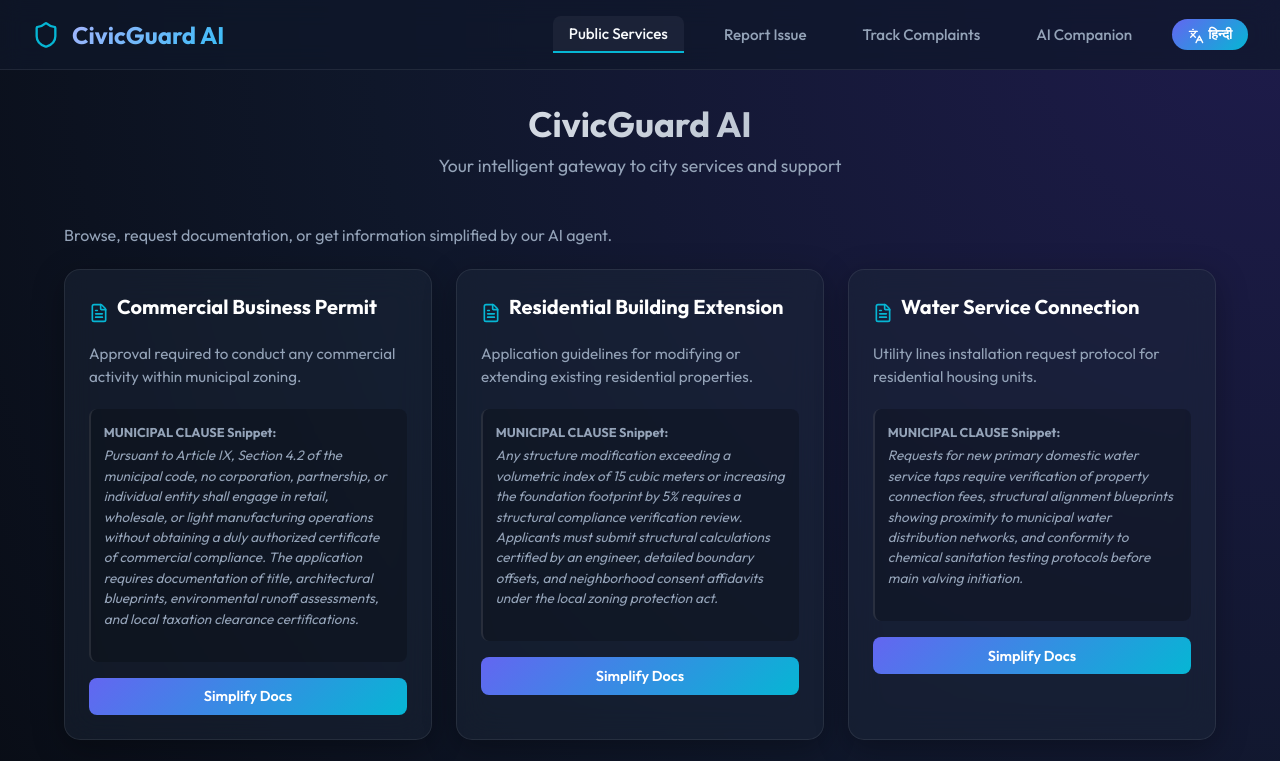
Test: Report issue form › shows success message after successful form submission
Click the button "Report Issue".
click(765, 34)  # box [708,17,823,52]
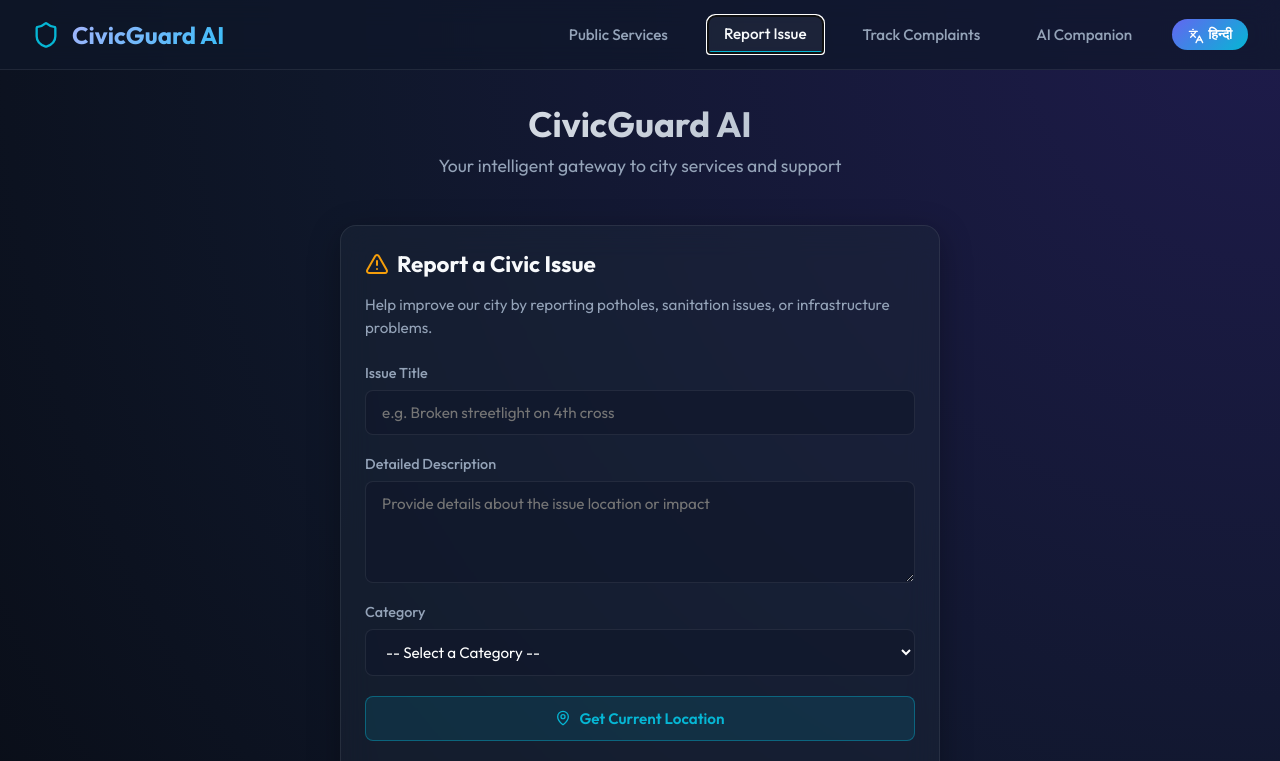
Type "Broken road" into the field labelled "Issue Title".
click(640, 412); type("Broken road")  # box [365,390,915,435]
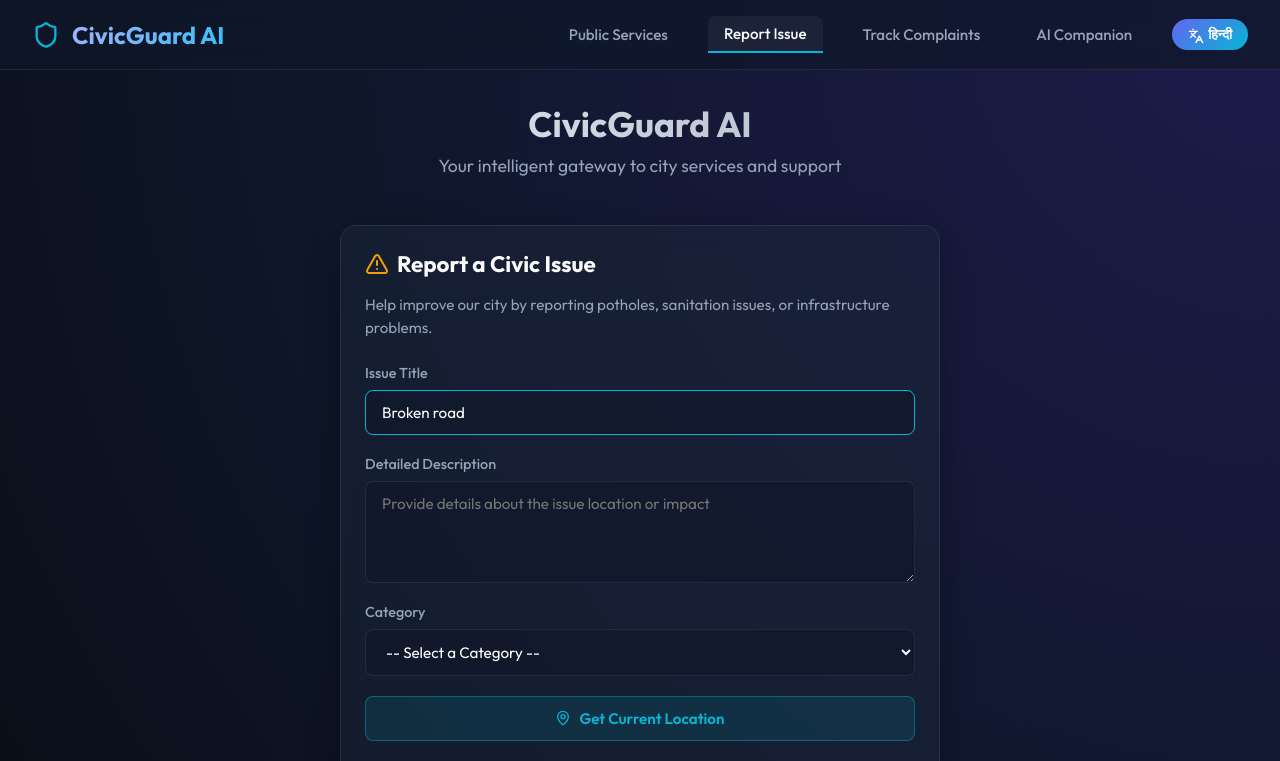
Type "Large pothole" into the text box labelled "Detailed Description".
click(640, 532); type("Large pothole")  # box [365,481,915,583]
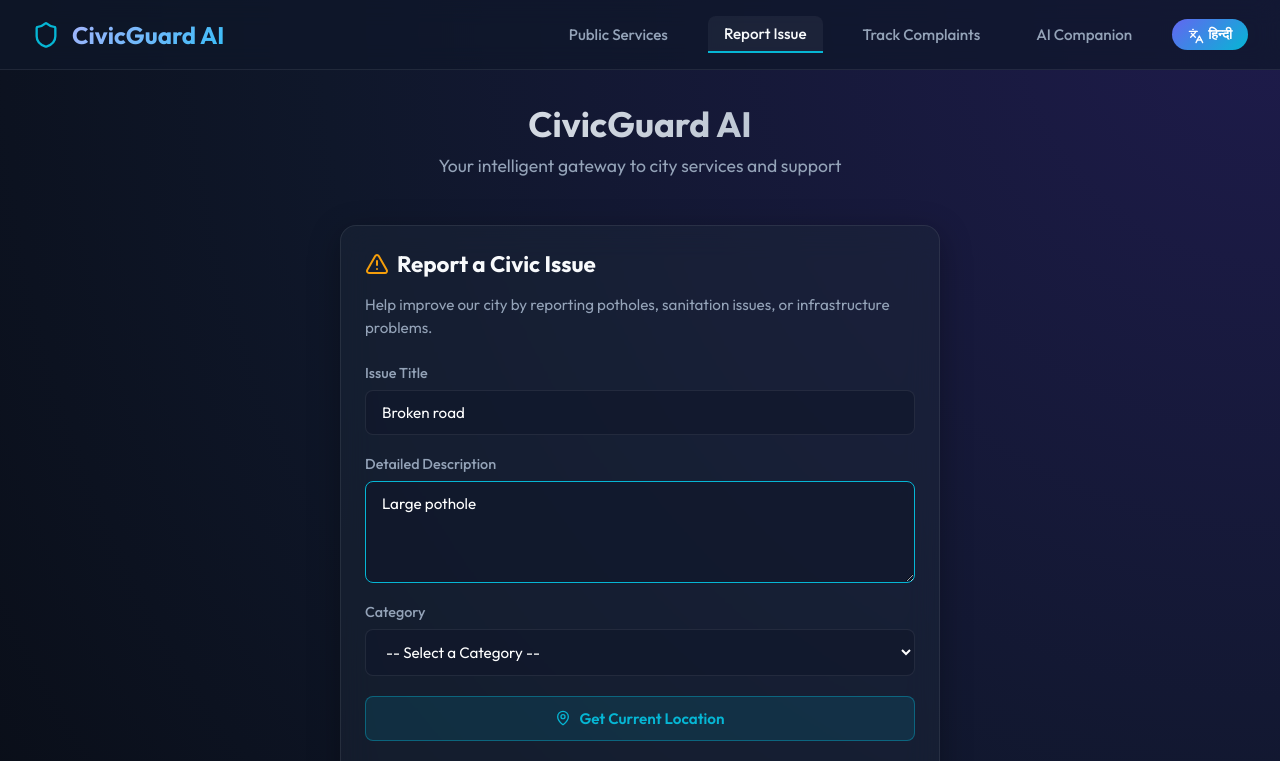
Select "Infrastructure (Roads, Potholes)" in the dropdown labelled "Category" at coordinates (640, 652), box [365,629,915,676]
(page scrolled)
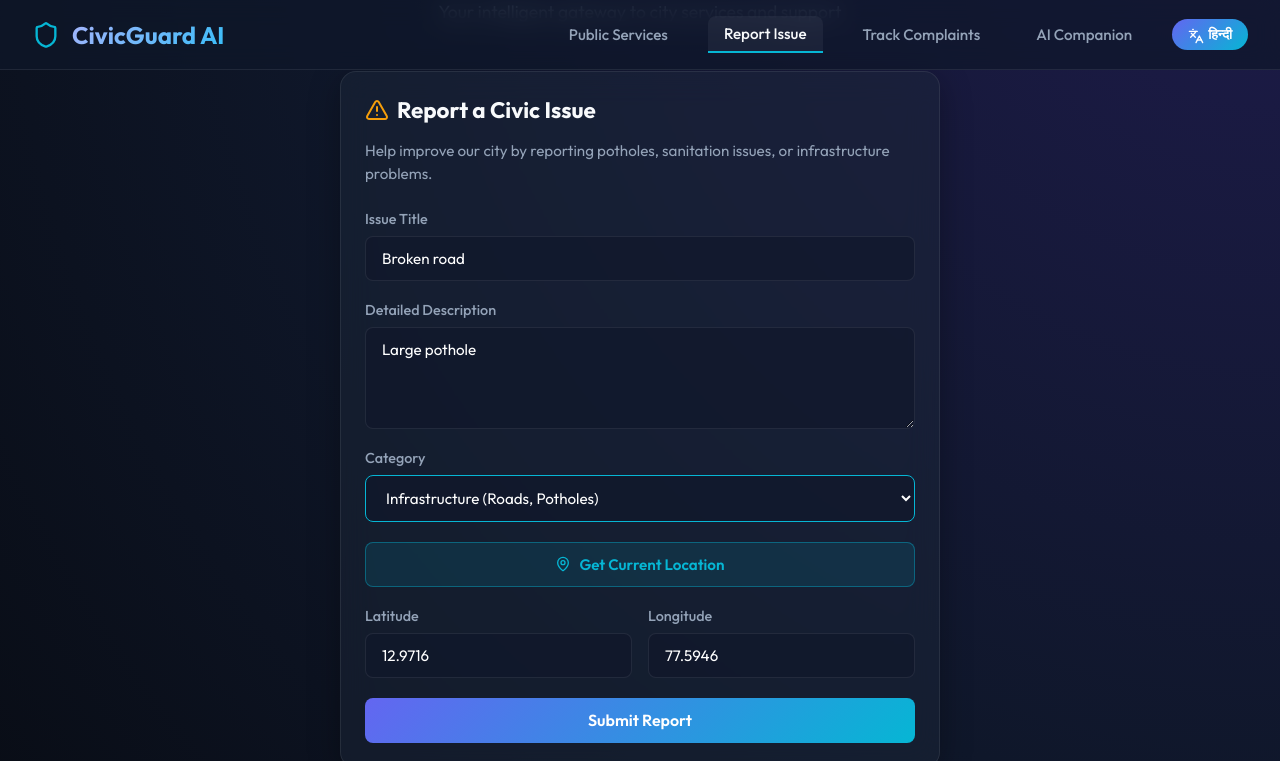
Click the button "Submit Report".
click(640, 720)  # box [365,698,915,743]
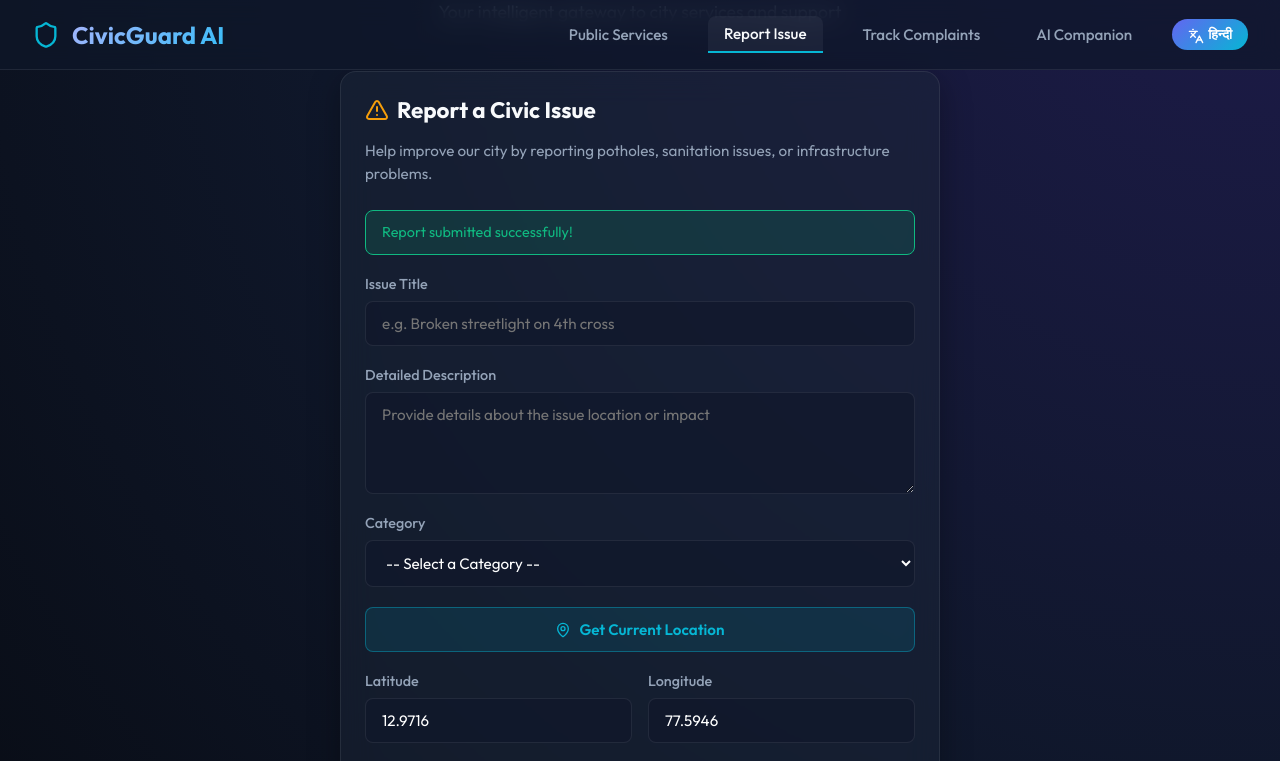
Result: the text "Report submitted successfully!" is shown at [365,210,915,255]
Result: the field labelled "Issue Title" is empty at [365,301,915,346]
